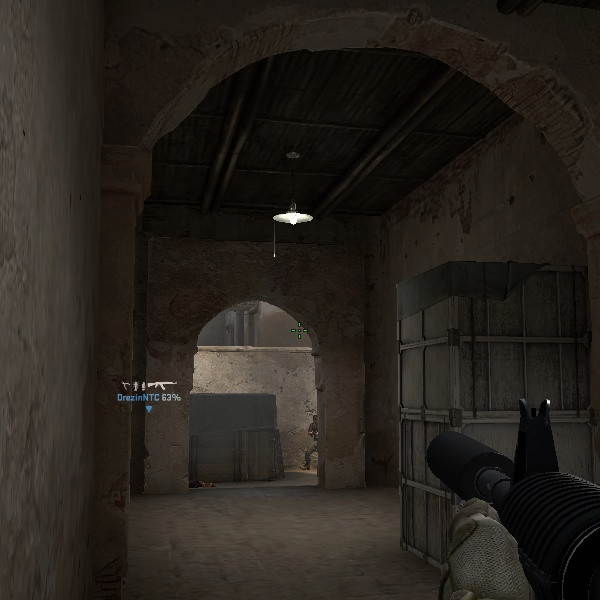t_body: (299, 416, 324, 471)
